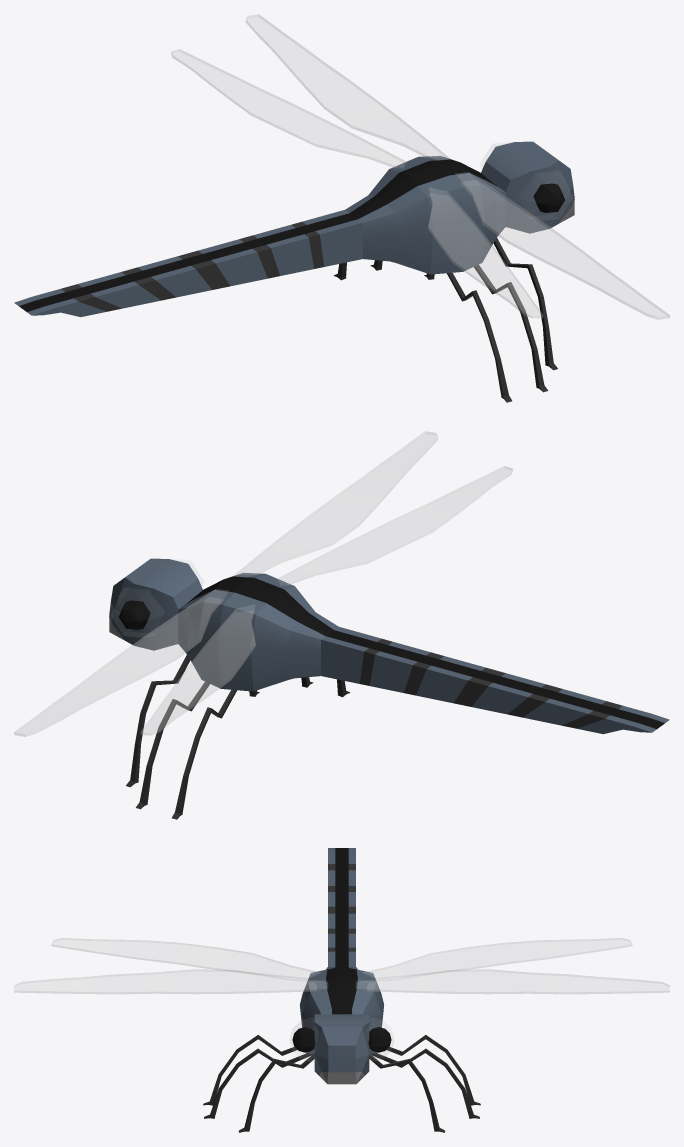
The model's file is DragonFly.fbx.
3 renders of one model, top to bottom at view 1: azimuth 30°, elevation 25°; view 2: azimuth 150°, elevation 25°; view 3: azimuth 270°, elevation 25°, orthographic. The views are drawn at different scales.
Visible parts, largest first — view 1: pCube7; view 2: pCube7; view 3: pCube7.
Boxes of the visible parts, x1,y1,x2,y2 form: pCube7: (14, 14, 669, 402); pCube7: (14, 431, 669, 819); pCube7: (14, 848, 669, 1132).
Size of the model in its own units: 12.03 by 3.67 by 15.77.
